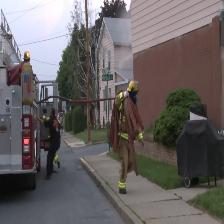nofire: (21, 114, 39, 198)
